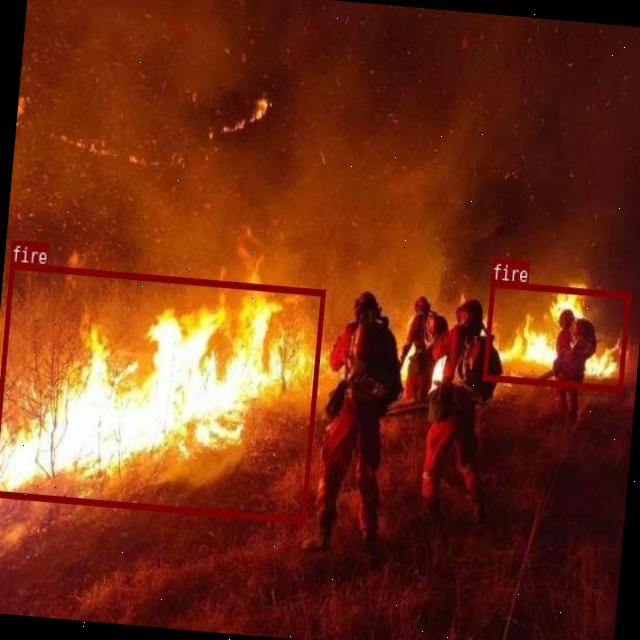fire: (0, 260, 323, 522), (482, 278, 630, 391)
